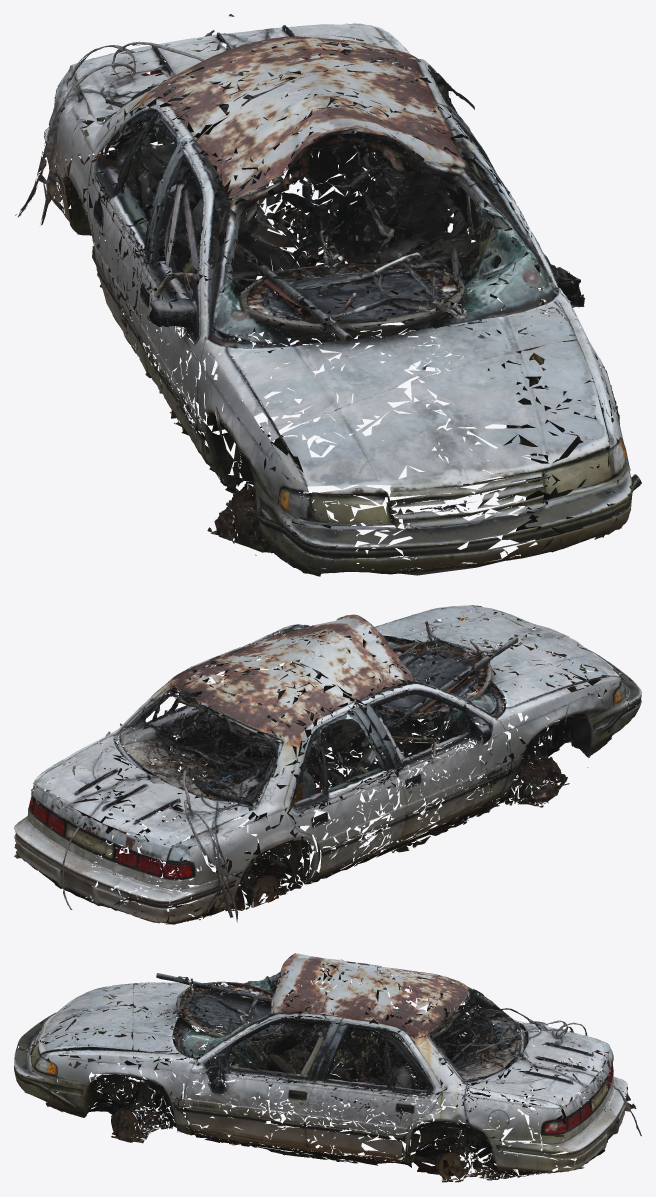
The model's file is barricade.glb.
3 renders of one model, top to bottom at view 1: azimuth 30°, elevation 25°; view 2: azimuth 150°, elevation 25°; view 3: azimuth 270°, elevation 25°, orthographic. The views are drawn at different scales.
Parts seen in each view (by area): view 1: Object_13, Object_26, Object_2, Object_14, Object_3, Object_17, Object_12, Object_27, Object_16, Object_9, Object_10, Object_18 (+19 smaller); view 2: Object_10, Object_9, Object_20, Object_13, Object_17, Object_16, Object_11, Object_2, Object_21, Object_14, Object_18, Object_24 (+19 smaller); view 3: Object_2, Object_26, Object_4, Object_29, Object_28, Object_3, Object_5, Object_20, Object_27, Object_30, Object_19, Object_13 (+20 smaller).
Part boxes in pixels (<box>): Object_13: <box>204,298,610,576</box>; Object_26: <box>387,276,641,560</box>; Object_2: <box>159,43,597,445</box>; Object_14: <box>207,295,444,575</box>; Object_3: <box>182,79,588,343</box>; Object_17: <box>120,43,407,493</box>; Object_12: <box>61,52,531,573</box>; Object_27: <box>402,299,641,566</box>; Object_16: <box>122,190,305,479</box>; Object_9: <box>23,73,299,373</box>; Object_10: <box>40,29,402,345</box>; Object_18: <box>127,147,353,464</box>; Object_10: <box>46,692,380,920</box>; Object_9: <box>168,691,398,922</box>; Object_20: <box>14,756,188,912</box>; Object_13: <box>437,605,641,805</box>; Object_17: <box>183,639,526,860</box>; Object_16: <box>299,673,526,857</box>; Object_11: <box>120,683,395,918</box>; Object_2: <box>114,621,478,810</box>; Object_21: <box>15,775,197,924</box>; Object_14: <box>455,638,641,807</box>; Object_18: <box>314,666,502,850</box>; Object_24: <box>135,664,434,918</box>; Object_2: <box>136,958,463,1163</box>; Object_26: <box>14,994,192,1128</box>; Object_4: <box>174,960,381,1163</box>; Object_29: <box>357,979,544,1182</box>; Object_28: <box>17,976,554,1179</box>; Object_3: <box>133,953,392,1165</box>; Object_5: <box>178,961,371,1162</box>; Object_20: <box>497,1057,635,1173</box>; Object_27: <box>15,1001,183,1143</box>; Object_30: <box>361,992,539,1182</box>; Object_19: <box>201,961,605,1175</box>; Object_13: <box>18,980,236,1116</box>.
Size of the model in its own units: 9.66 by 5.34 by 17.7.
Materials: 1 (1 with a texture image).
